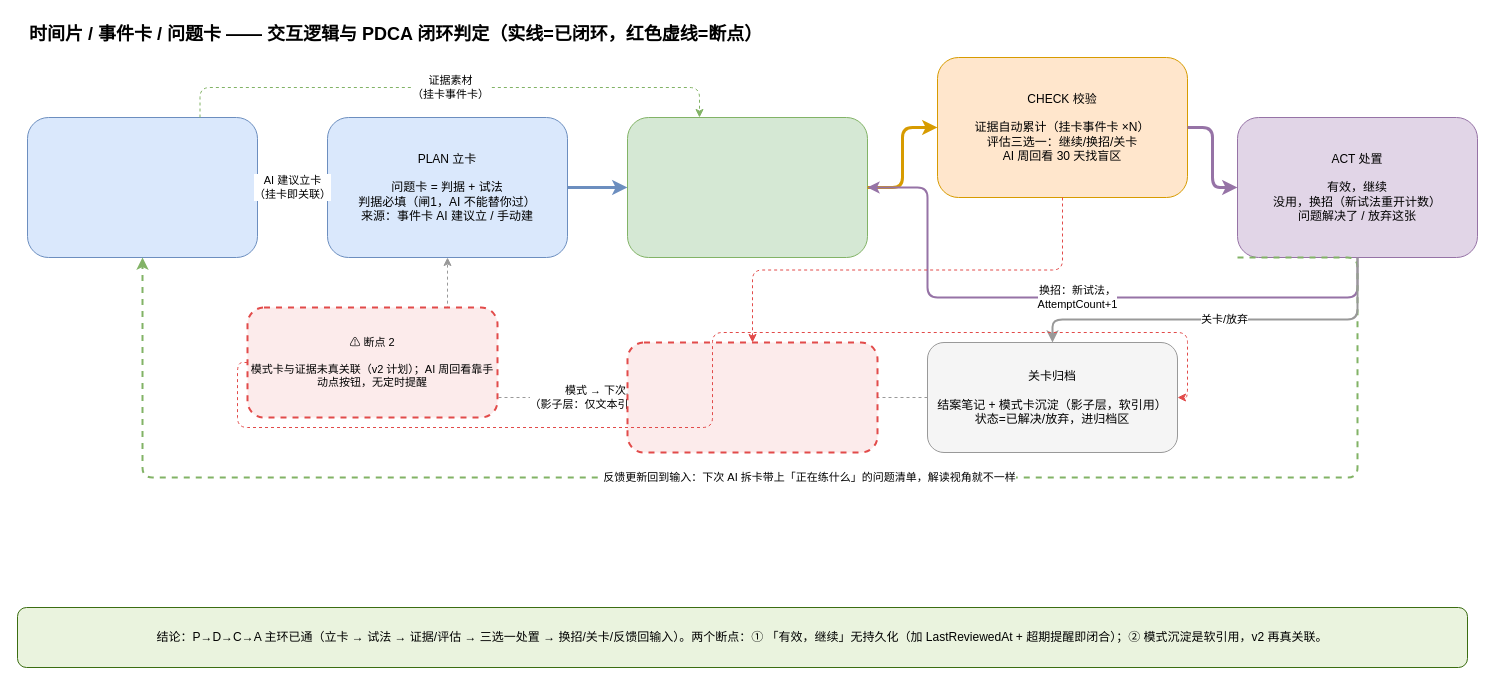
The diagram is 1495 pixels wide and 685 high, and some of its shapes have lost their labels. The centre of each missing label's shape, as x and y in pixels:
DO 执行 试法跑在现实里（不在软件内） 时间片记录「做了」、事件卡记录「反馈」: the point at 747,187
⚠ 断点 1 「有效，继续」不写库：只弹提示文字，没有评估时间戳、没有「N 天没评估」提醒 —— CHECK 的结果没有持久化，环看起来在转但系统不知道: the point at 752,397
输入层 事件卡：乱糟糟一段话 → AI 拆卡签收 时间片：做了什么的事实记录 想法：原材料仓库: the point at 142,187
